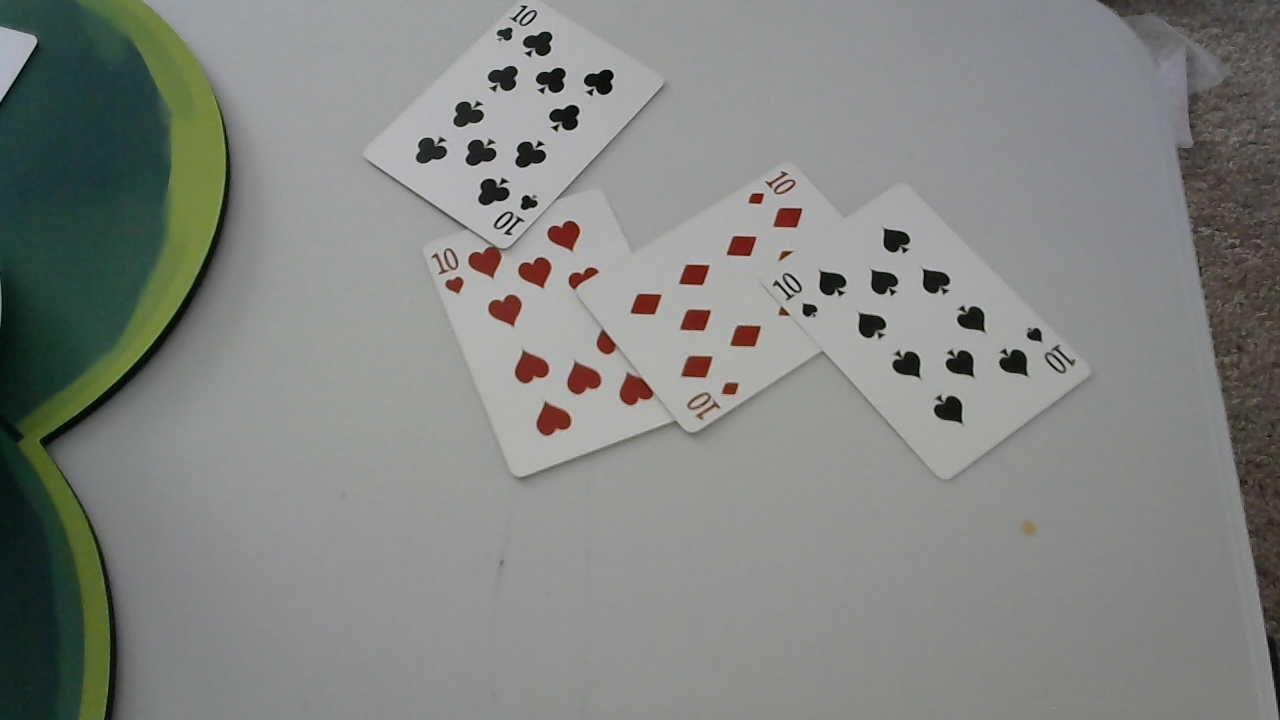10C: (489, 193, 542, 238), (494, 2, 539, 46)
10D: (681, 379, 742, 426), (743, 166, 799, 210)
10H: (430, 247, 469, 300)
10S: (1020, 323, 1077, 378), (770, 271, 820, 320)
